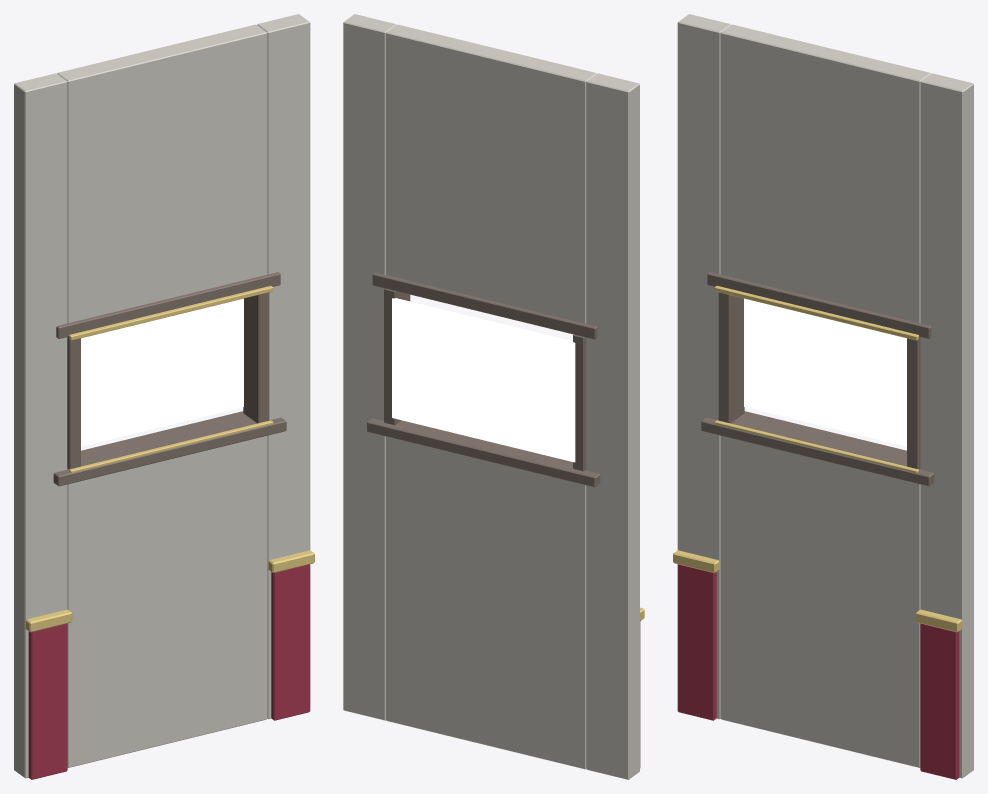
The model's file is theatre-stage-and-backstage-control-box-window-frame-a919fc62__35902.glb.
3 renders of one model, left to right at view 1: azimuth 30°, elevation 25°; view 2: azimuth 150°, elevation 25°; view 3: azimuth 330°, elevation 25°, orthographic.
Visible parts, largest first — view 1: control-box-window-frame; view 2: control-box-window-frame; view 3: control-box-window-frame.
Part boxes in pixels (x1,y1,x2,y2): control-box-window-frame: (14,14,314,779); control-box-window-frame: (343,14,644,779); control-box-window-frame: (673,14,973,779).
Size of the model in its own units: 2 by 4.6 by 0.26.
